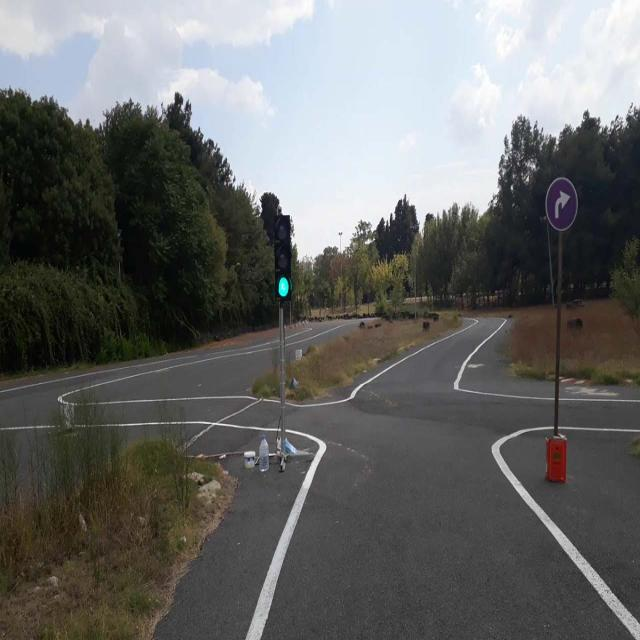sag: (544, 180, 578, 230)
yesil: (272, 215, 291, 302)
